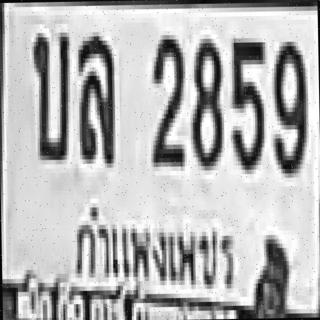A26: (31, 28, 69, 160)
A36: (76, 32, 113, 159)
N02: (149, 30, 184, 162)
N05: (229, 33, 264, 170)
N08: (189, 34, 222, 166)
N09: (269, 35, 304, 171)
P16: (69, 202, 239, 298)
